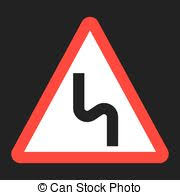Double_bend_left: (1, 8, 177, 170)
